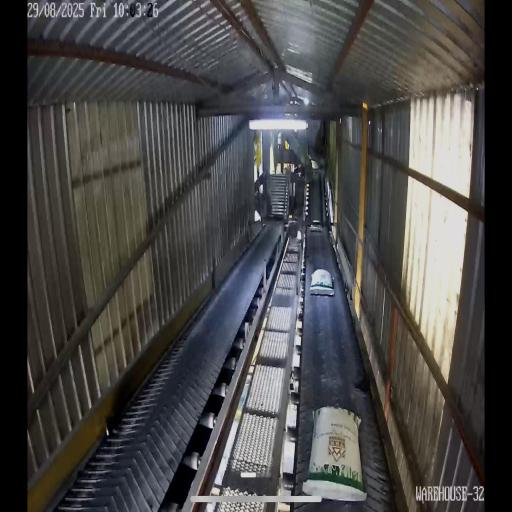c-belt-sack-count: (303, 406, 366, 501), (310, 269, 334, 296), (310, 220, 322, 232)
